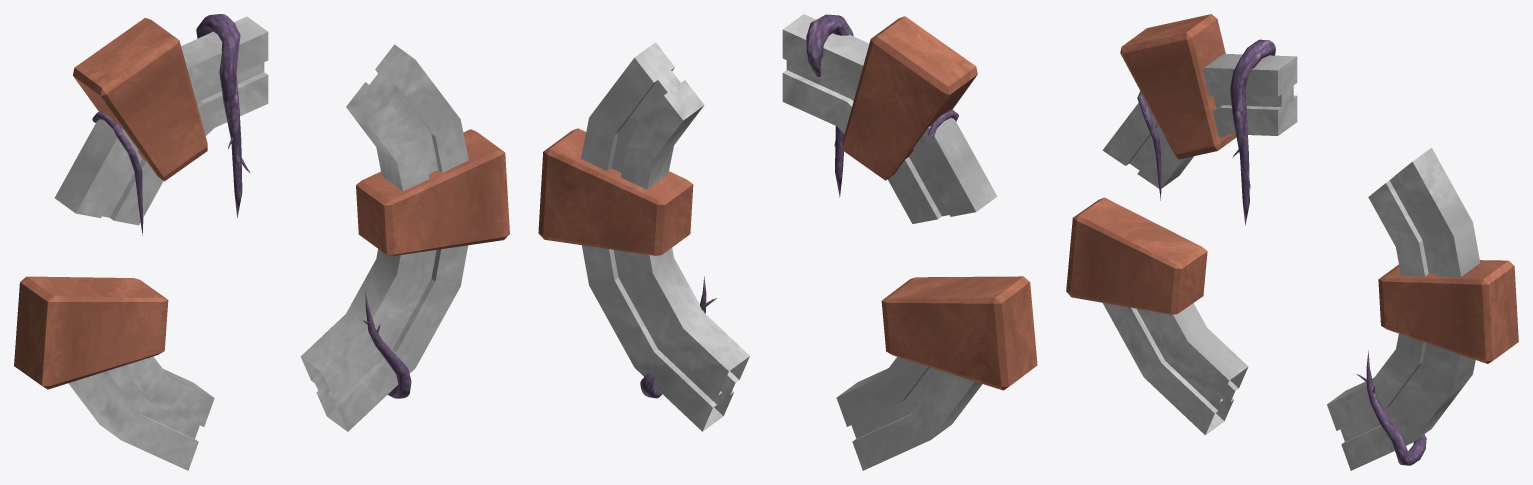
Rendered from portal02.glb.
3 views of the same model, side by side, from view 1: azimuth 30°, elevation 25°; view 2: azimuth 150°, elevation 25°; view 3: azimuth 330°, elevation 25° (orthographic). The views are drawn at different scales.
Visible parts, largest first — view 1: Portal02; view 2: Portal02; view 3: Portal02.
Part boxes in pixels (x1,y1,x2,y2): Portal02: (14, 14, 509, 470); Portal02: (538, 14, 1037, 470); Portal02: (1066, 14, 1518, 470).
Bounding box in the file's own units: 12.9 × 11.57 × 1.71.
Materials: 2 (2 with a texture image).
